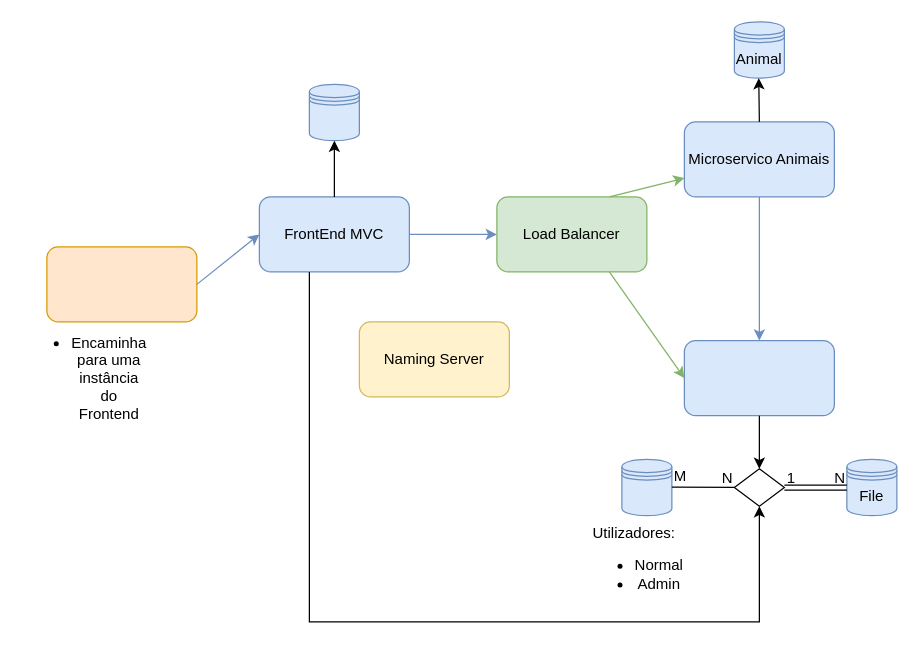
This 919x654 diagram has some shape labels left out. The shapes that lost their labels are listed below. From the top down, each one's centre as x and y in pixels, then its label:
(x=333, y=112): Tarefa
(x=121, y=284): API Gateway
(x=758, y=377): Microservico Utilizadores
